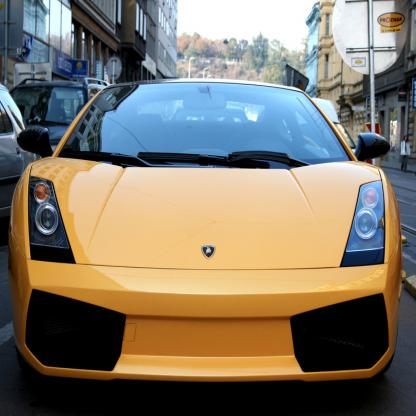Car: (0, 80, 401, 382)
